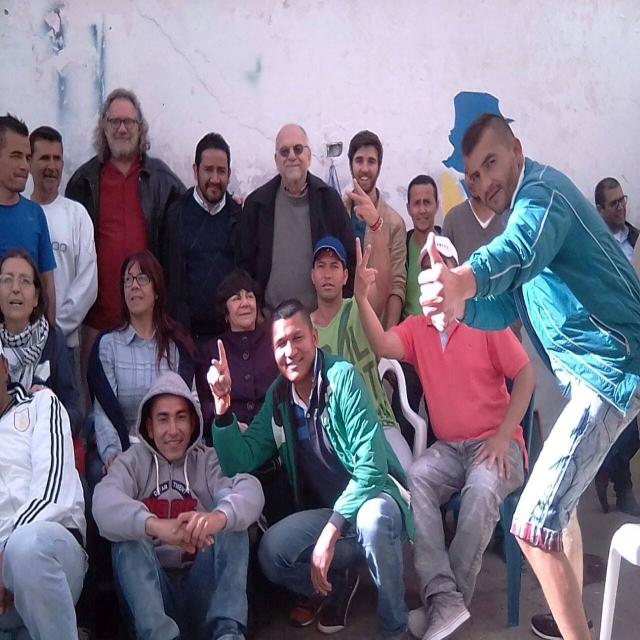body: (416, 110, 640, 640), (352, 233, 538, 639), (204, 296, 420, 640), (89, 369, 267, 639), (61, 87, 189, 418), (89, 248, 203, 493), (304, 234, 414, 481), (0, 337, 89, 640), (238, 121, 358, 318), (24, 124, 100, 421), (159, 133, 245, 392), (340, 128, 408, 389), (193, 266, 286, 448), (0, 250, 86, 442), (389, 173, 445, 457), (594, 176, 640, 519), (22, 125, 63, 334), (440, 158, 512, 266)
